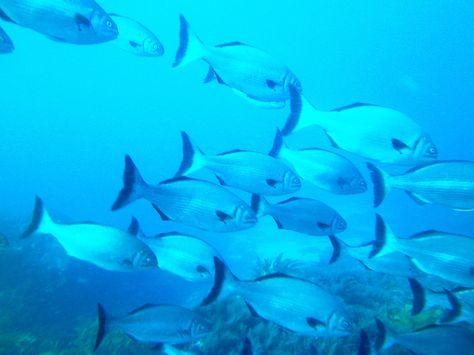fish: (284, 80, 438, 167), (198, 251, 351, 336), (113, 152, 254, 231), (174, 13, 302, 98), (19, 192, 157, 270), (367, 211, 474, 287), (180, 132, 302, 195), (125, 215, 231, 282), (268, 128, 367, 194), (96, 304, 213, 354), (367, 159, 474, 212), (0, 0, 117, 45), (326, 233, 430, 279), (250, 187, 345, 234), (376, 315, 474, 354), (105, 12, 166, 57), (407, 278, 474, 317), (443, 283, 474, 326)
